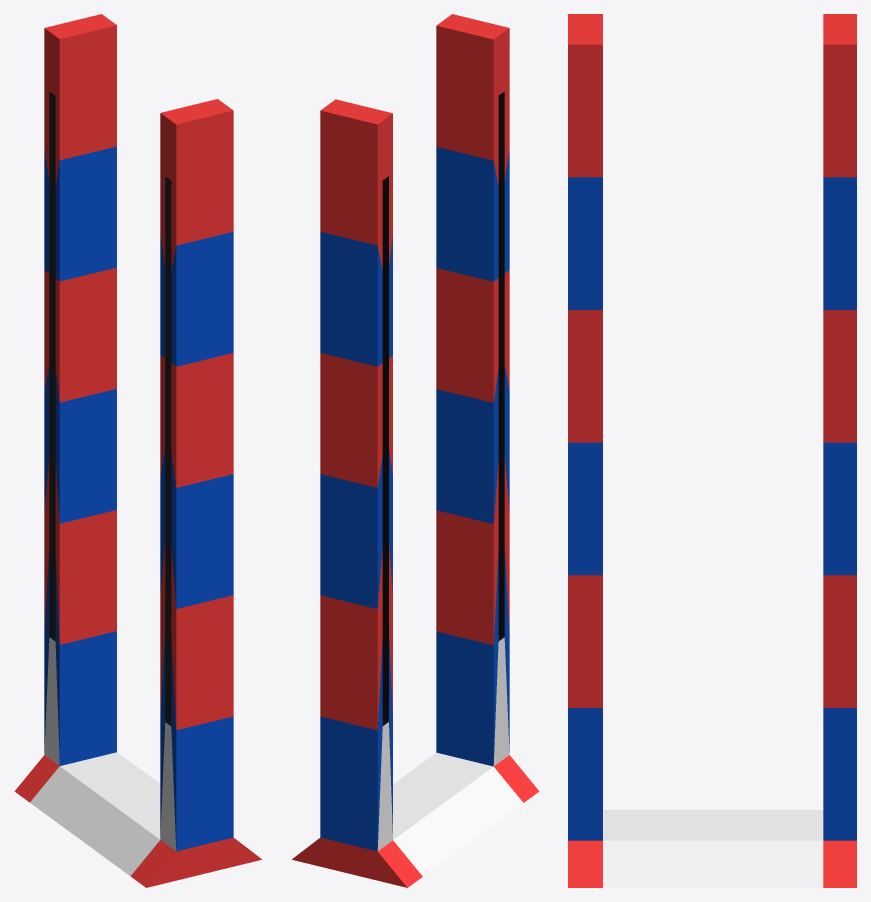
The model's file is Stands (2).fbx.
The picture shows the model from 3 angles, left to right: view 1: azimuth 30°, elevation 25°; view 2: azimuth 150°, elevation 25°; view 3: azimuth 270°, elevation 25°; orthographic projection. The views are drawn at different scales.
Parts seen in each view (by area): view 1: Высокие штуки; view 2: Высокие штуки; view 3: Высокие штуки.
Part boxes in pixels (box(x1,y1,x2,y2)): Высокие штуки: box(14, 14, 261, 887); Высокие штуки: box(292, 14, 539, 887); Высокие штуки: box(568, 14, 856, 887).
Size of the model in its own units: 200 by 1244 by 393.
